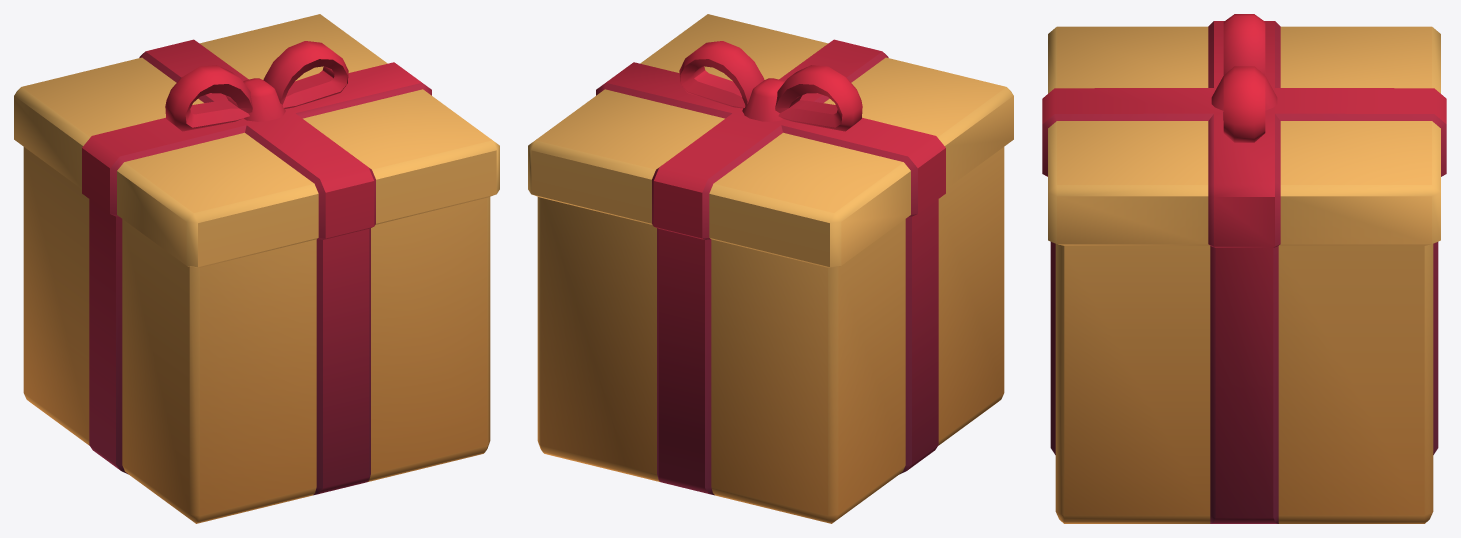
Rendered from present_D_yellow.glb.
3 views of the same model, side by side, from view 1: azimuth 30°, elevation 25°; view 2: azimuth 150°, elevation 25°; view 3: azimuth 270°, elevation 25° (orthographic). The views are drawn at different scales.
Parts seen in each view (by area): view 1: present_D_yellow; view 2: present_D_yellow; view 3: present_D_yellow.
Boxes of the visible parts, left/top/right/bottom form: present_D_yellow: left=14, top=14, right=499, bottom=523; present_D_yellow: left=528, top=14, right=1013, bottom=523; present_D_yellow: left=1042, top=14, right=1446, bottom=523.
Bounding box in the file's own units: 0.9638 × 1.06 × 0.9638.
Materials: 1 (1 with a texture image).
